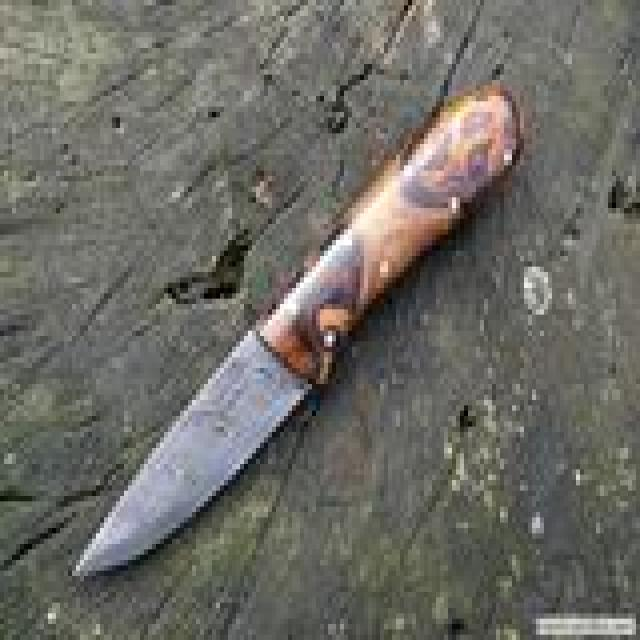Knife: (68, 85, 526, 588)
